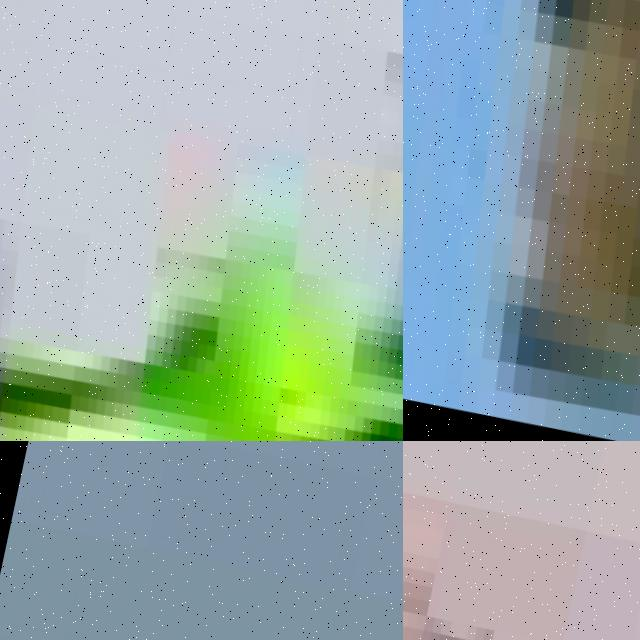0: (0, 0, 403, 441)
drone: (403, 0, 640, 441)
